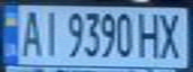0: (115, 10, 136, 58)
3: (81, 9, 100, 58)
9: (63, 8, 84, 57), (97, 9, 118, 58)
A: (15, 7, 45, 57)
H: (136, 9, 163, 60)
I: (36, 7, 60, 57)
X: (154, 9, 187, 60)
